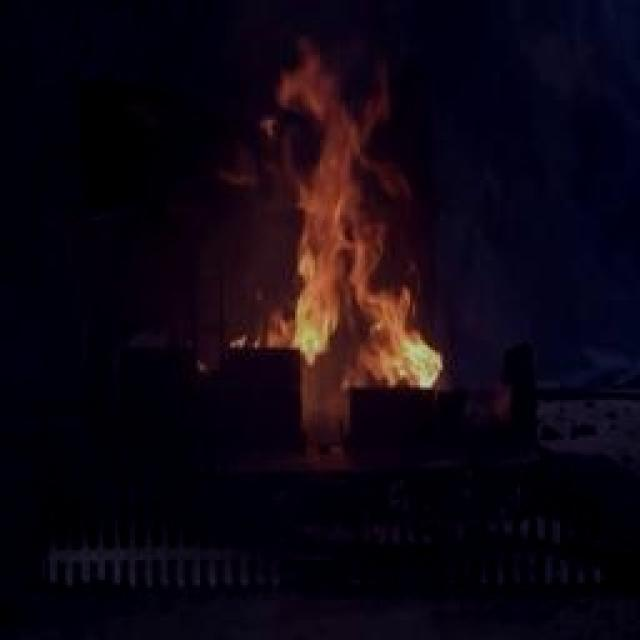fire: (274, 64, 438, 371)
